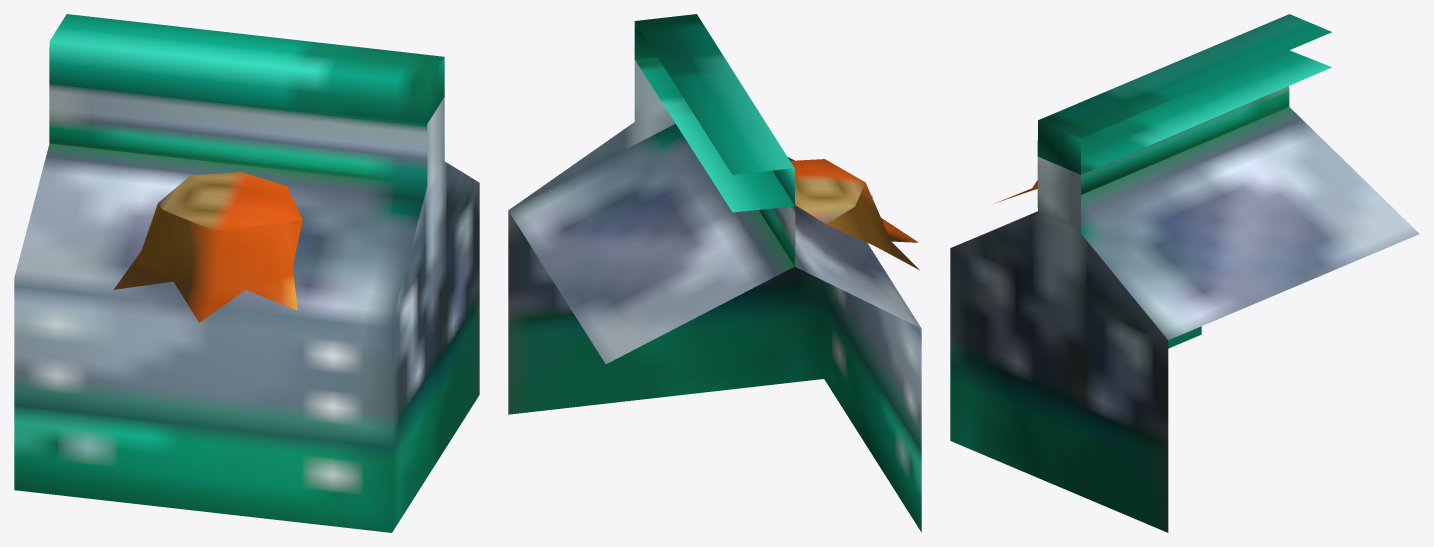
The model's file is fg_S_toolbox_E_out.dae.
3 renders of one model, left to right at view 1: azimuth 30°, elevation 25°; view 2: azimuth 150°, elevation 25°; view 3: azimuth 270°, elevation 25°, orthographic. The views are drawn at different scales.
Parts seen in each view (by area): view 1: fg_S_toolbox_E_out; view 2: fg_S_toolbox_E_out; view 3: fg_S_toolbox_E_out.
Boxes of the visible parts, box(x1,y1,x2,y2) form: fg_S_toolbox_E_out: box(14, 14, 479, 532); fg_S_toolbox_E_out: box(508, 14, 921, 532); fg_S_toolbox_E_out: box(950, 14, 1419, 532).
Bounding box in the file's own units: 19.8 × 16.64 × 19.8.
1 material, 1 textured.
